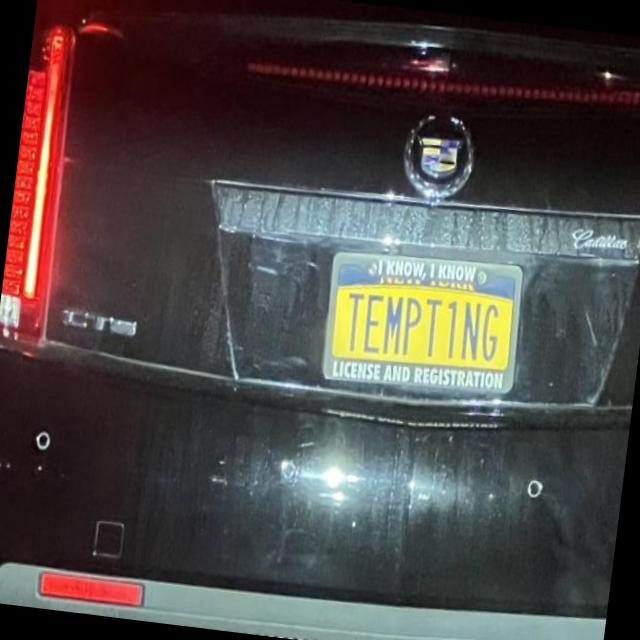LicensePlate: (319, 251, 523, 394)
